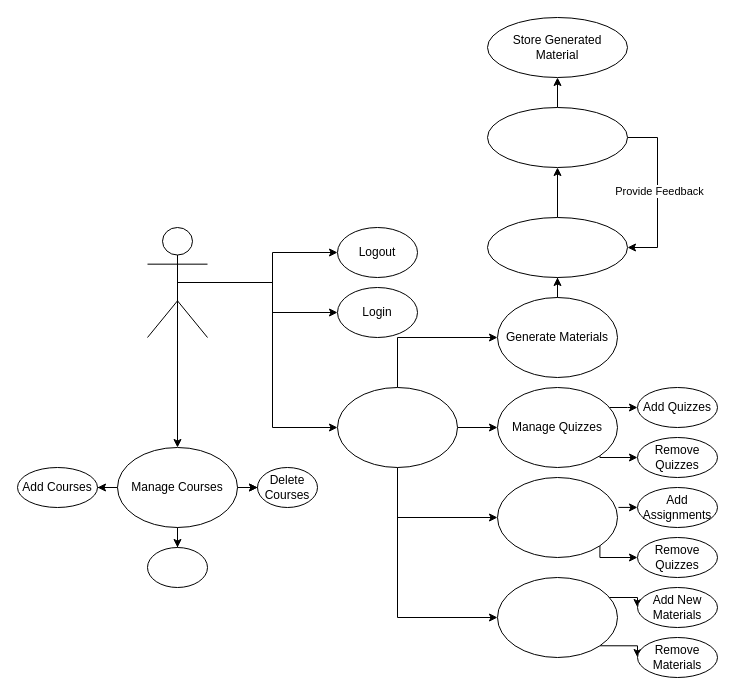
The diagram is 735 pixels wide and 695 high, and some of its shapes have lost their labels. The centre of each missing label's shape, as x and y in pixels:
Faculty: the point at 177,282
Manage Assignments: the point at 557,517
Manage Learning Materials: the point at 557,617
Provide Metadata Question Type, Examples, etc.: the point at 557,247
Review Generated Material: the point at 557,137
Select Course: the point at 397,427
Update Courses: the point at 177,567
